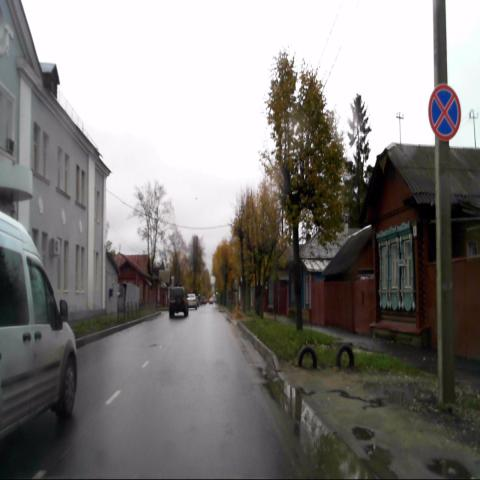3_27: (429, 84, 461, 141)
